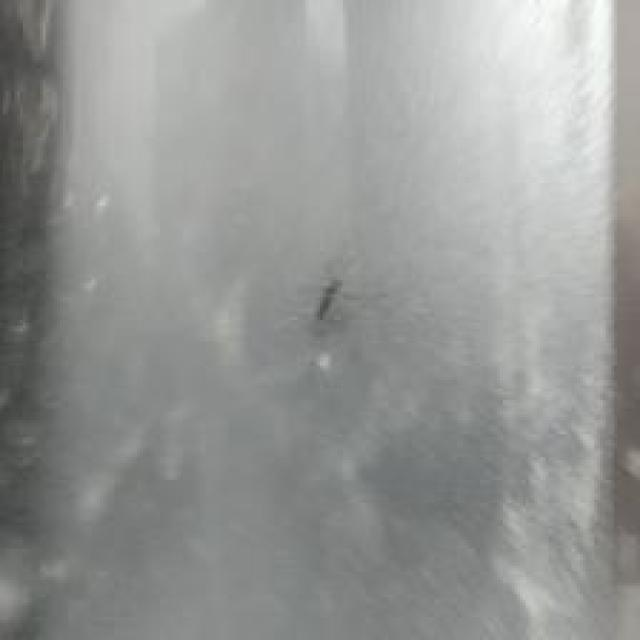Aedes albopictus: (314, 276, 343, 321)
